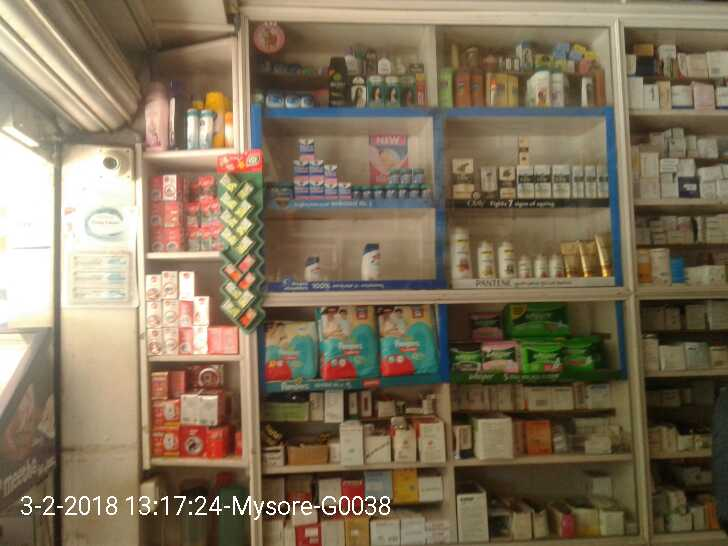beauty: (451, 221, 475, 281), (448, 158, 477, 199), (358, 240, 382, 280), (476, 239, 497, 280), (495, 235, 514, 278), (577, 242, 599, 278), (598, 233, 614, 281), (560, 239, 579, 277), (533, 166, 554, 200), (550, 165, 572, 197), (594, 161, 609, 202), (517, 163, 533, 201), (498, 166, 515, 201), (303, 254, 322, 283), (582, 164, 596, 199), (571, 165, 584, 199), (547, 248, 561, 276), (515, 252, 530, 277), (533, 251, 546, 276)
pharmacy: (315, 306, 376, 378), (377, 307, 437, 374), (266, 321, 315, 382), (505, 302, 573, 334), (566, 344, 618, 374), (482, 341, 518, 375), (520, 345, 563, 373), (467, 313, 500, 338), (451, 344, 480, 371), (291, 137, 319, 158), (290, 174, 306, 194), (308, 177, 323, 196), (335, 180, 351, 197), (323, 176, 336, 196), (307, 155, 321, 173), (294, 157, 307, 176), (388, 164, 398, 184), (398, 166, 409, 184), (360, 185, 373, 200), (384, 183, 396, 199), (322, 162, 336, 175), (412, 167, 423, 182), (373, 182, 383, 197), (409, 182, 419, 197), (397, 183, 406, 196)
